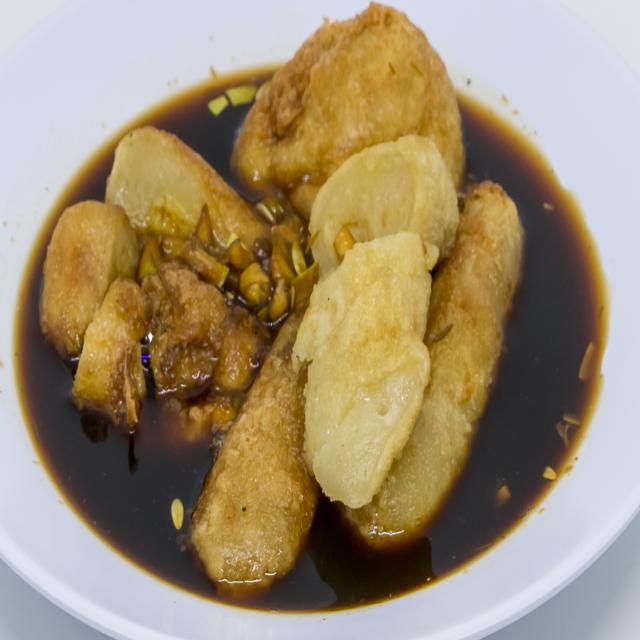Pempek-Palembang: (34, 15, 530, 595)
